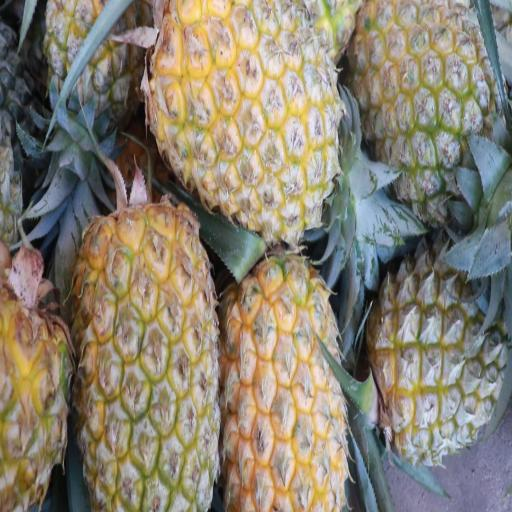------------------------------: (372, 251, 504, 458), (44, 0, 137, 179)
Pineapple - v8 v1: (78, 199, 216, 512), (154, 0, 336, 229), (221, 256, 343, 512), (356, 0, 501, 214)
